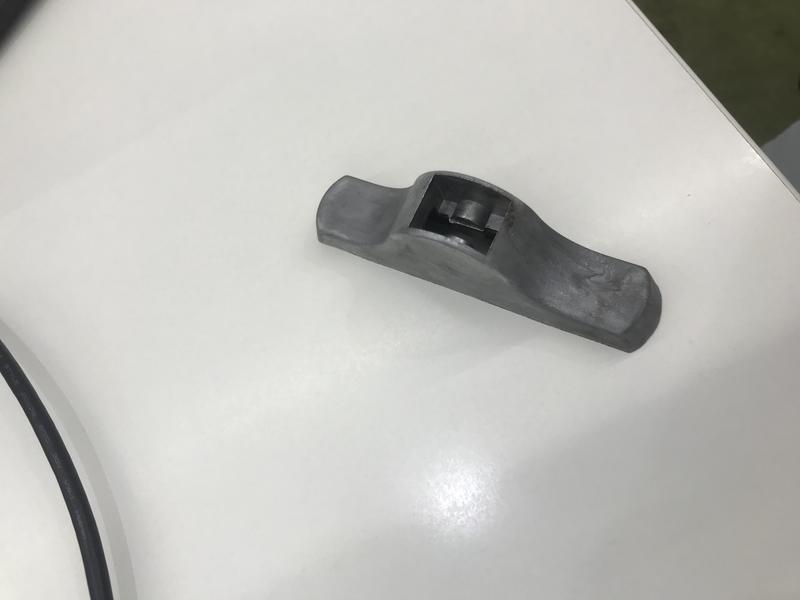zapchast: (304, 162, 674, 378)
